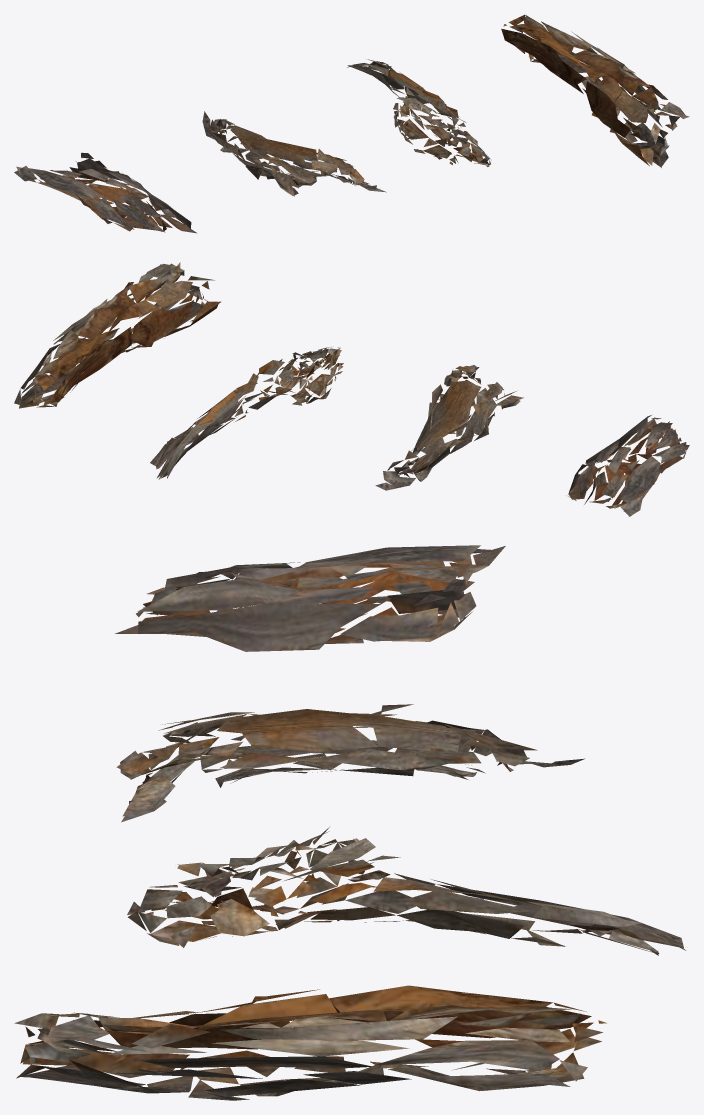
Rendered from bark_debris.glb.
The picture shows the model from 3 angles, top to bottom: view 1: azimuth 30°, elevation 25°; view 2: azimuth 150°, elevation 25°; view 3: azimuth 270°, elevation 25°; orthographic projection. The views are drawn at different scales.
Parts seen in each view (by area): view 1: bark_debris; view 2: bark_debris; view 3: bark_debris.
Part boxes in pixels (x1,y1,x2,y2): bark_debris: [14, 14, 689, 233]; bark_debris: [14, 262, 689, 516]; bark_debris: [14, 545, 686, 1100].
Size of the model in its own units: 1.1 by 0.0971 by 0.6072.
1 material, 1 textured.
